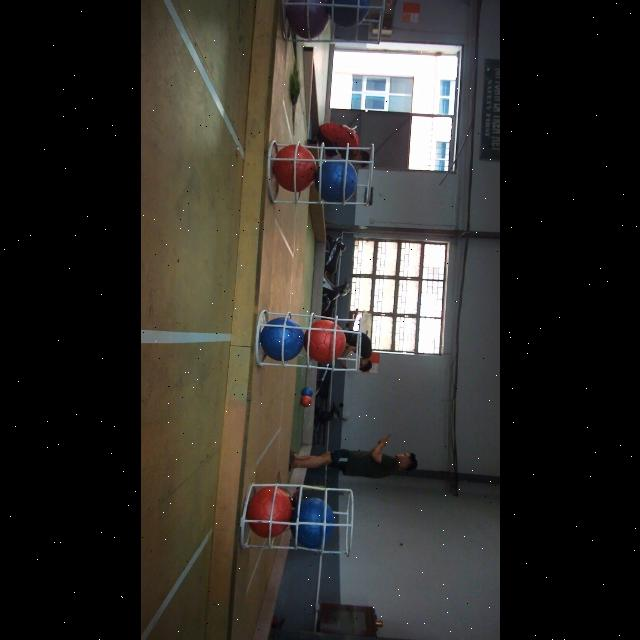B: (290, 498, 334, 548), (260, 318, 304, 362), (319, 157, 357, 203), (329, 0, 365, 30)
R: (248, 486, 292, 540), (272, 145, 316, 191), (305, 320, 345, 364)
